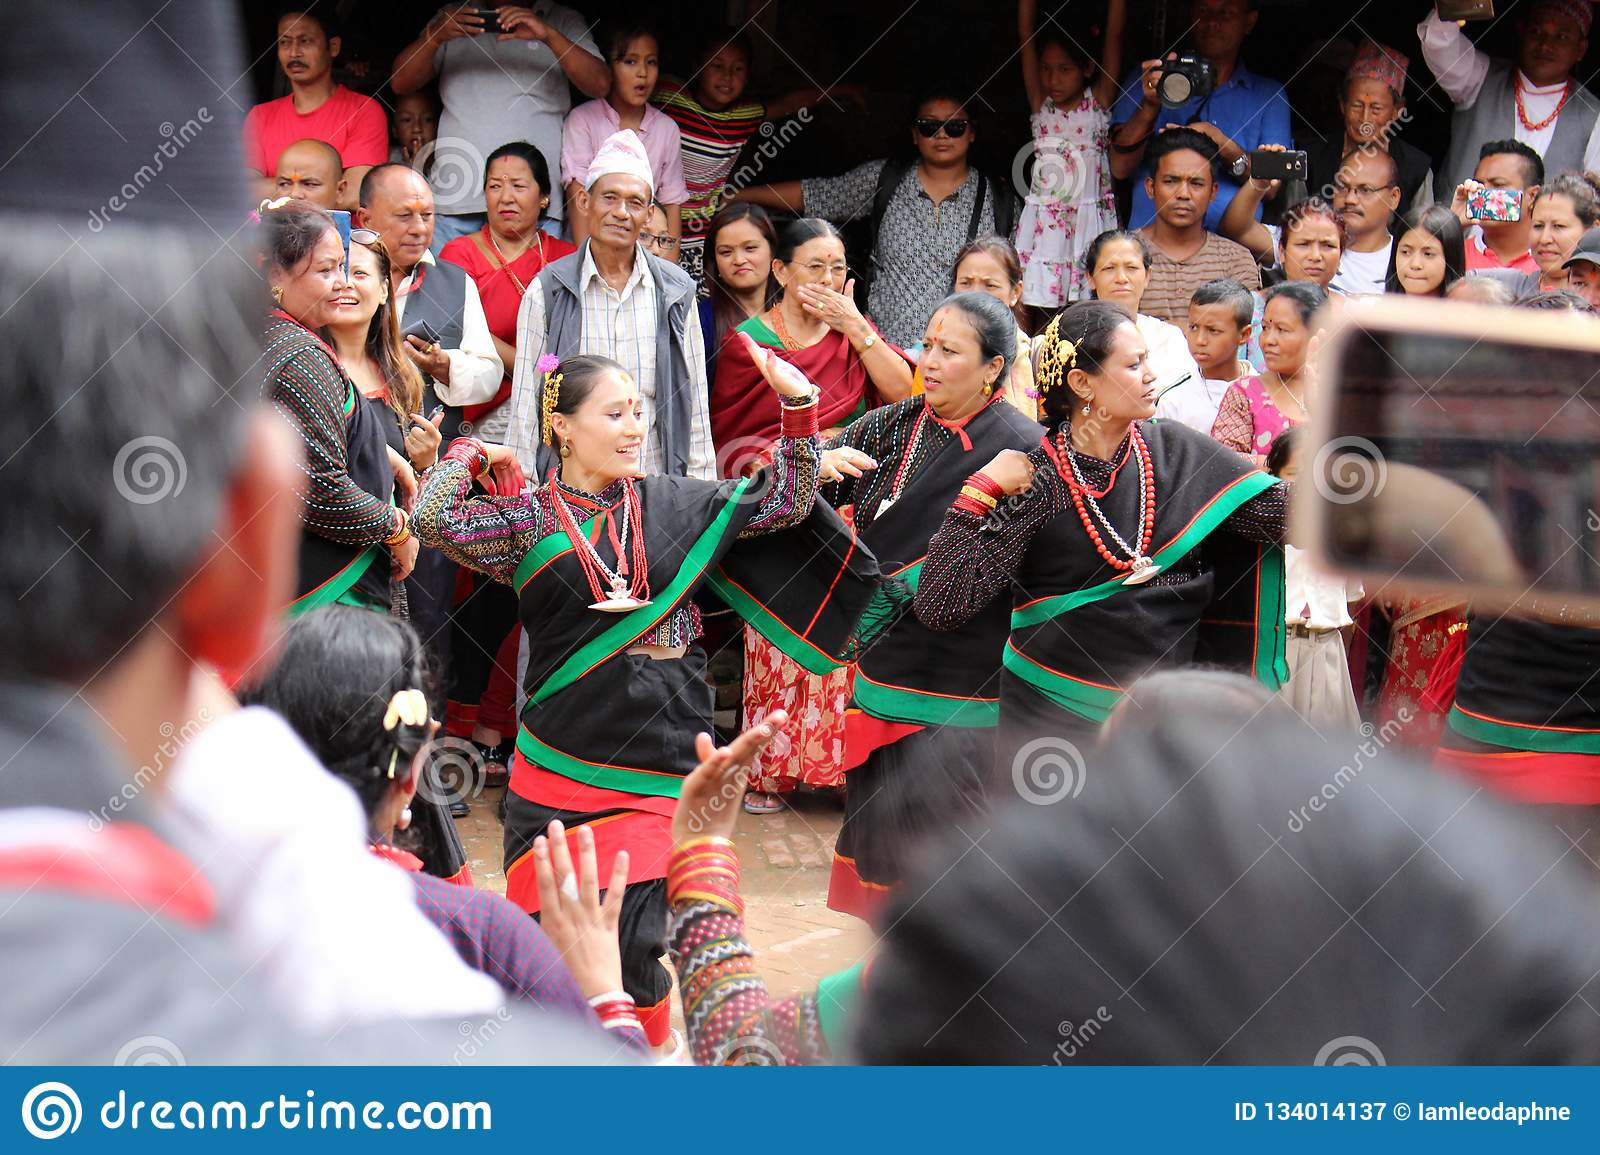human: (406, 336, 825, 1027), (780, 291, 1099, 976), (899, 291, 1323, 785), (695, 204, 881, 835), (494, 121, 764, 536), (338, 143, 512, 773), (198, 195, 405, 693), (718, 71, 1012, 380), (987, 30, 1136, 345), (1219, 117, 1420, 309), (1095, 130, 1258, 295)
